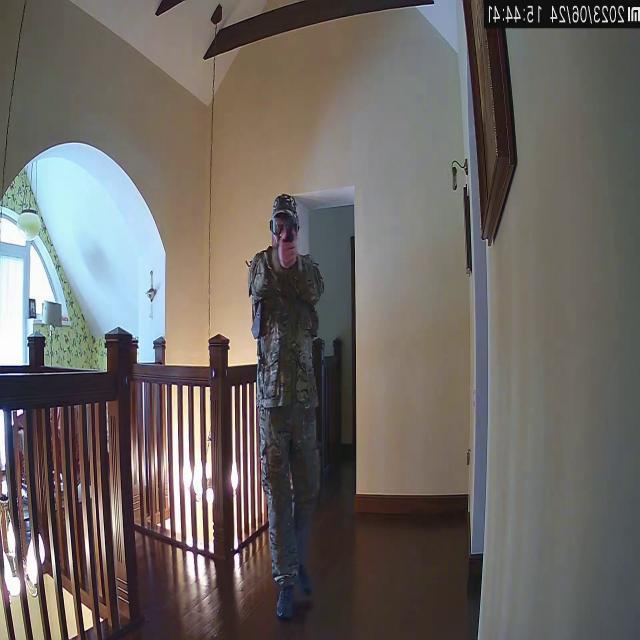pistol: (266, 218, 310, 261)
